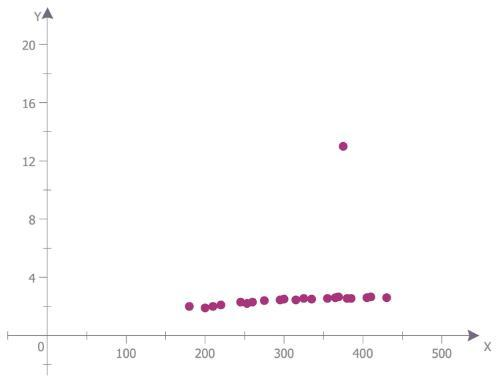axis: (4, 328, 482, 346), (36, 7, 56, 377)
point: (336, 138, 350, 154), (381, 292, 394, 304), (199, 302, 210, 314), (259, 295, 270, 307), (280, 293, 290, 306), (343, 292, 353, 305), (348, 291, 358, 304), (275, 293, 284, 307), (290, 295, 301, 306), (367, 291, 378, 302), (217, 298, 226, 311), (243, 295, 252, 308), (330, 292, 339, 305), (334, 291, 343, 304), (184, 301, 195, 311), (236, 296, 245, 308), (209, 300, 217, 313), (362, 292, 371, 303), (308, 293, 316, 305), (323, 293, 331, 305), (299, 293, 309, 302), (249, 296, 257, 307), (316, 291, 317, 292)
